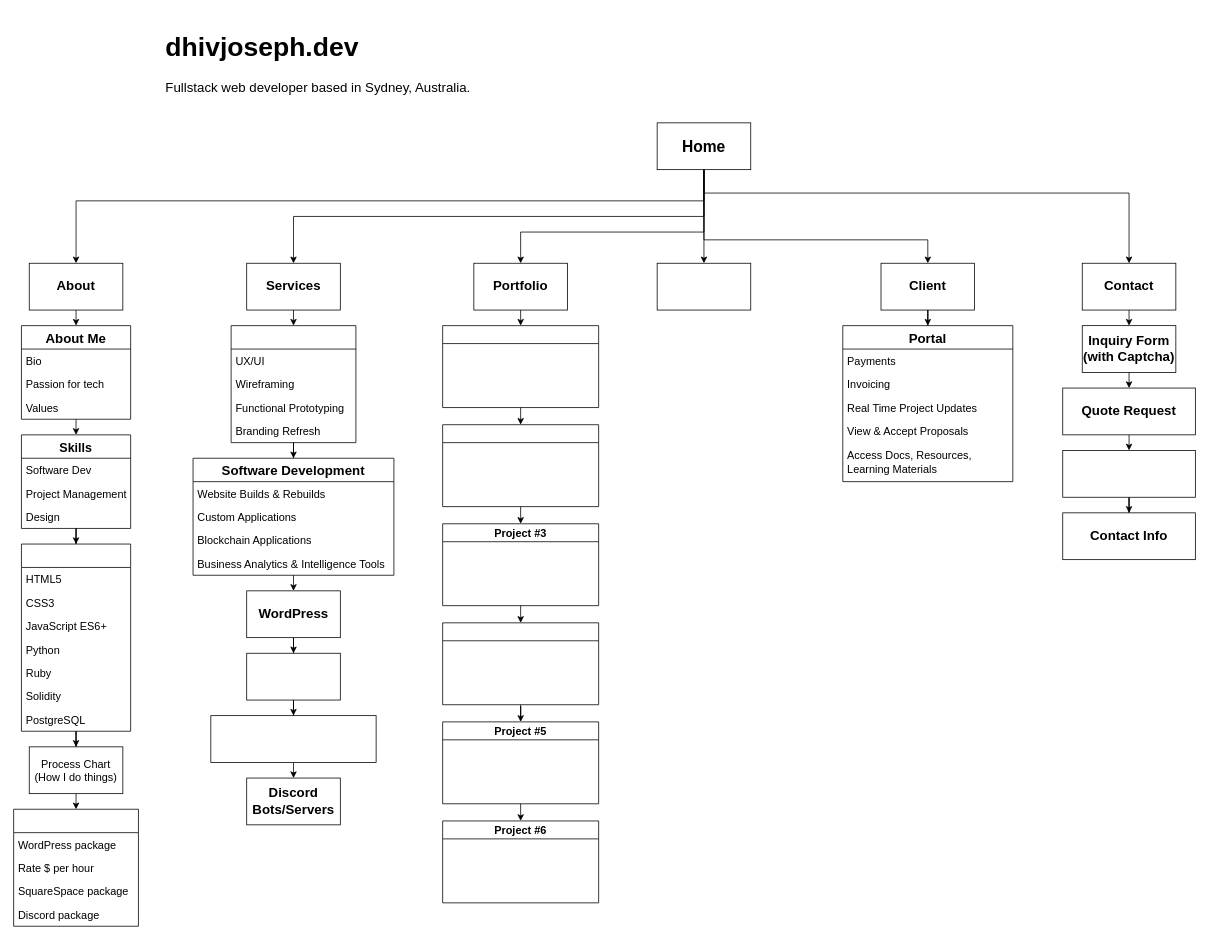
The diagram is 1209 pixels wide and 940 high, and some of its shapes have lost their labels. The box of each missing label's shape, as (x1, y1, x2, y2) in pixels:
Blog: (656, 262, 751, 310)
Booking Manager: (1062, 450, 1195, 497)
Digital Marketing/SEO: (210, 715, 376, 762)
Pricing: (13, 808, 138, 926)
Project #1: (442, 325, 599, 408)
Project #2: (442, 424, 599, 507)
Project #4: (442, 622, 599, 705)
SquareSpace: (246, 652, 340, 700)
Technologies: (21, 543, 131, 731)
Web Design: (230, 325, 356, 443)
